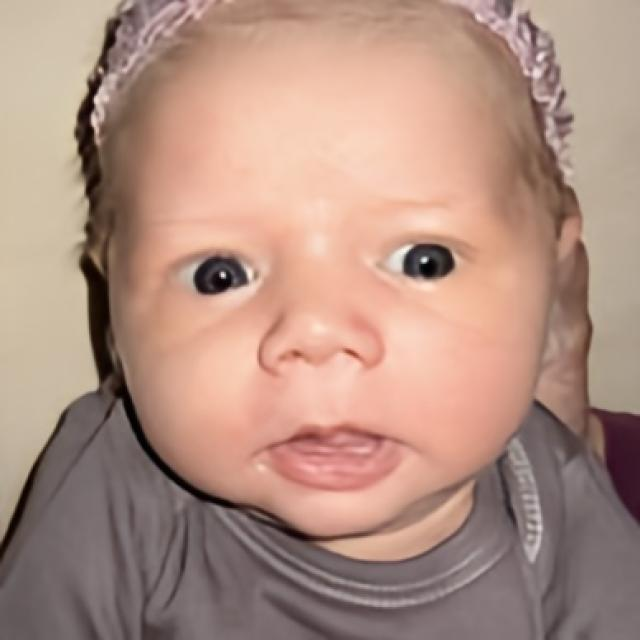fear: (107, 1, 555, 542)
